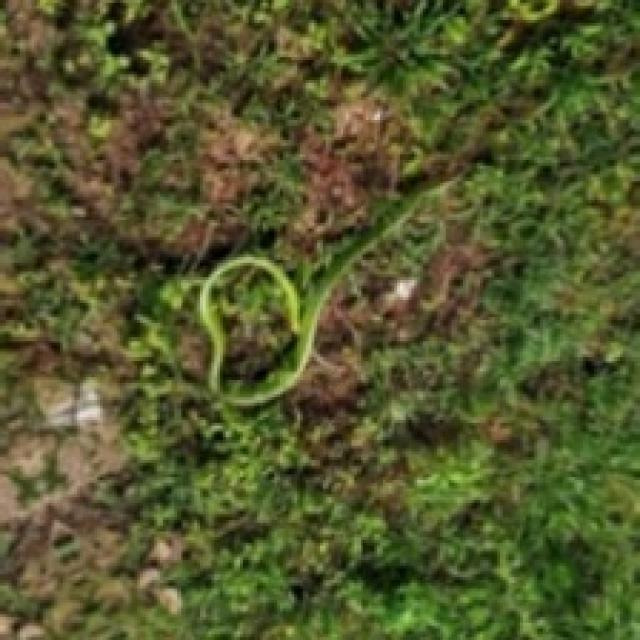red-tailed green ratsnake: (197, 140, 477, 406)
